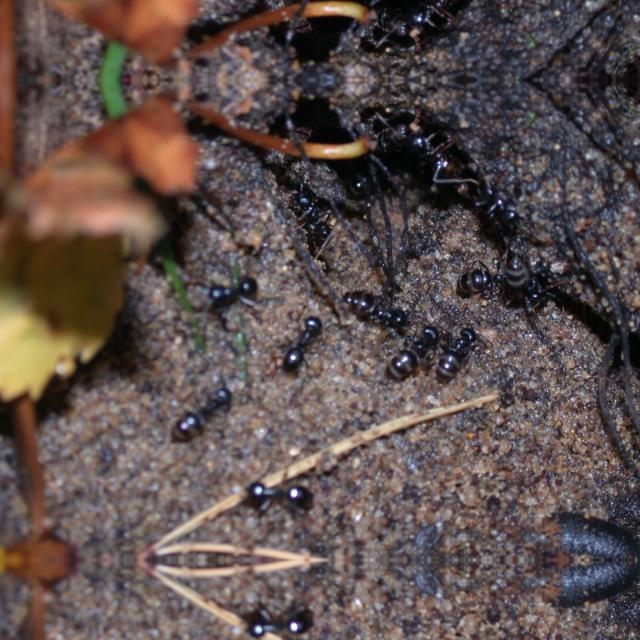Lasius: (156, 373, 230, 442), (210, 258, 292, 316), (230, 474, 328, 518), (230, 602, 326, 640), (388, 314, 442, 380), (436, 320, 490, 382), (347, 276, 408, 330), (283, 312, 325, 378), (525, 262, 567, 322), (506, 215, 536, 292), (462, 263, 512, 305)
